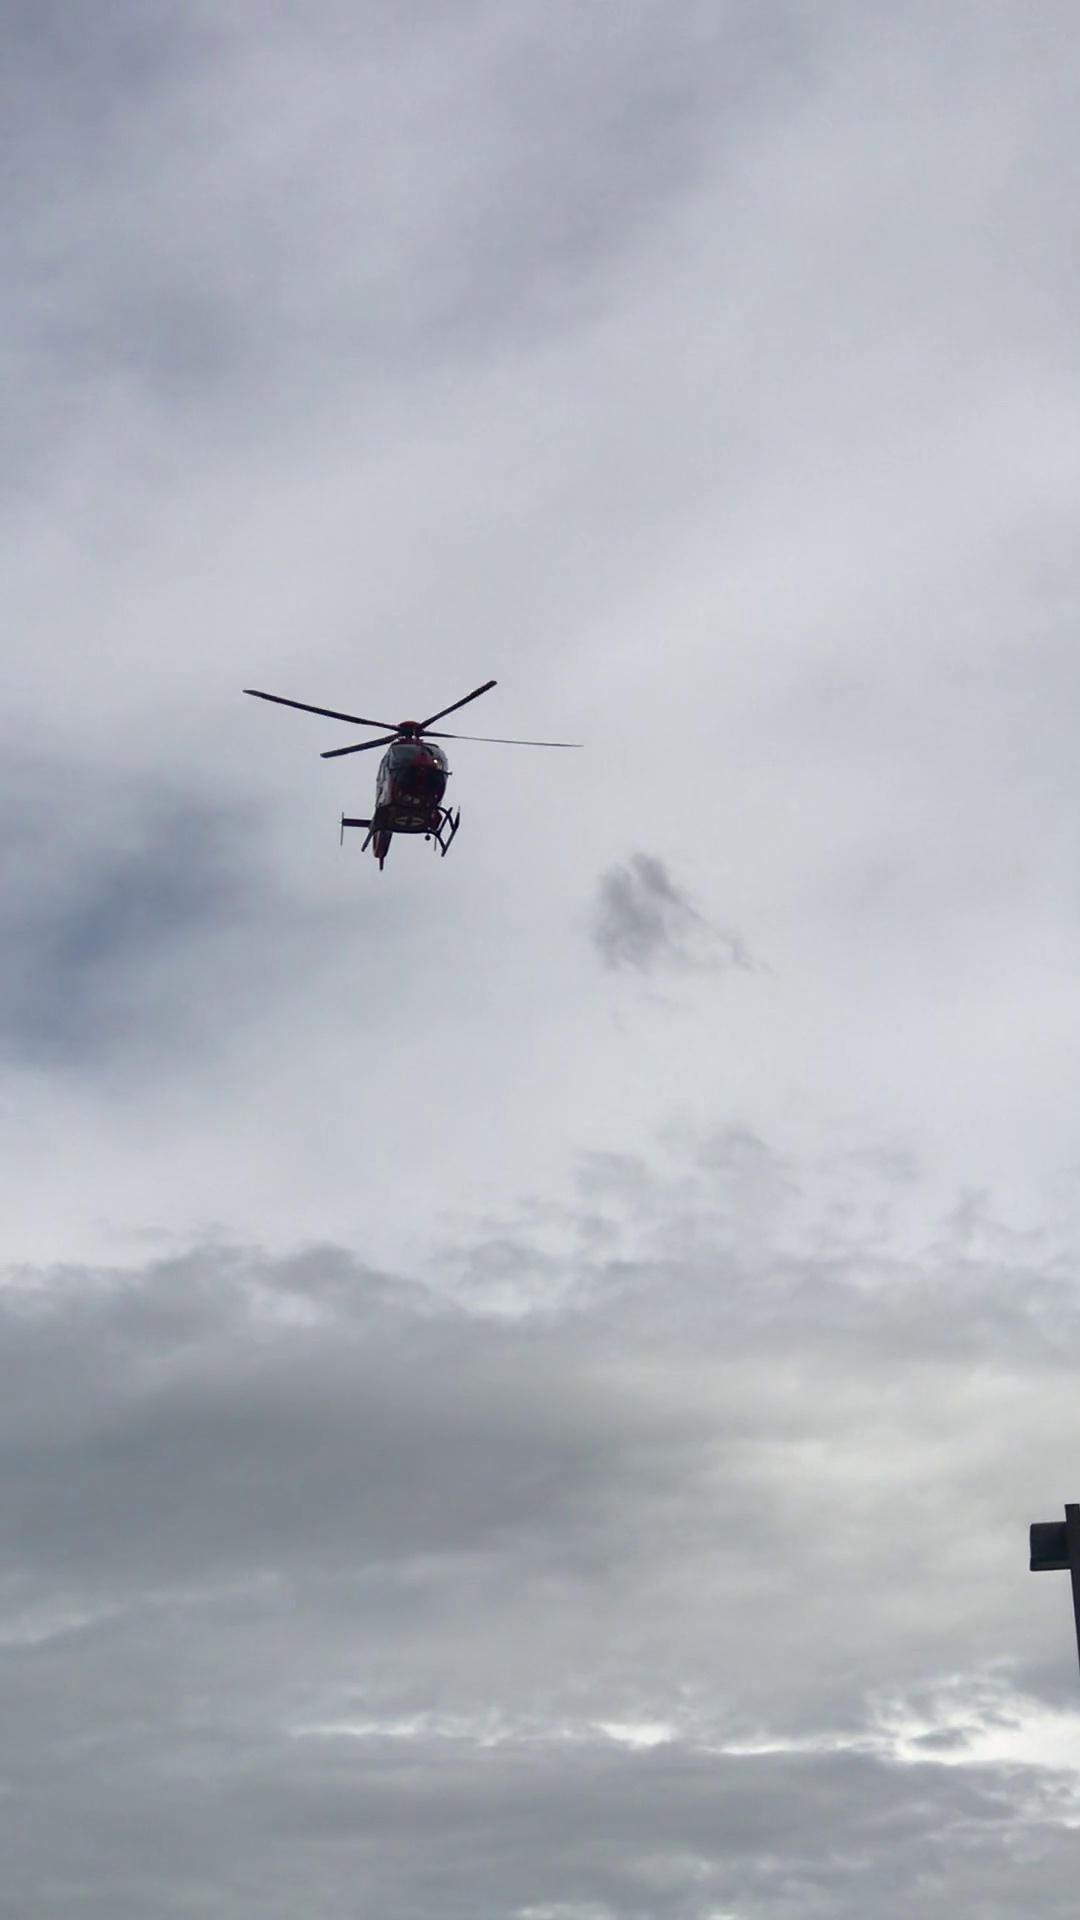heli: (237, 678, 584, 870)
